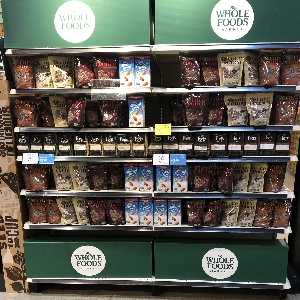void: (146, 95, 179, 127), (152, 57, 178, 87)
